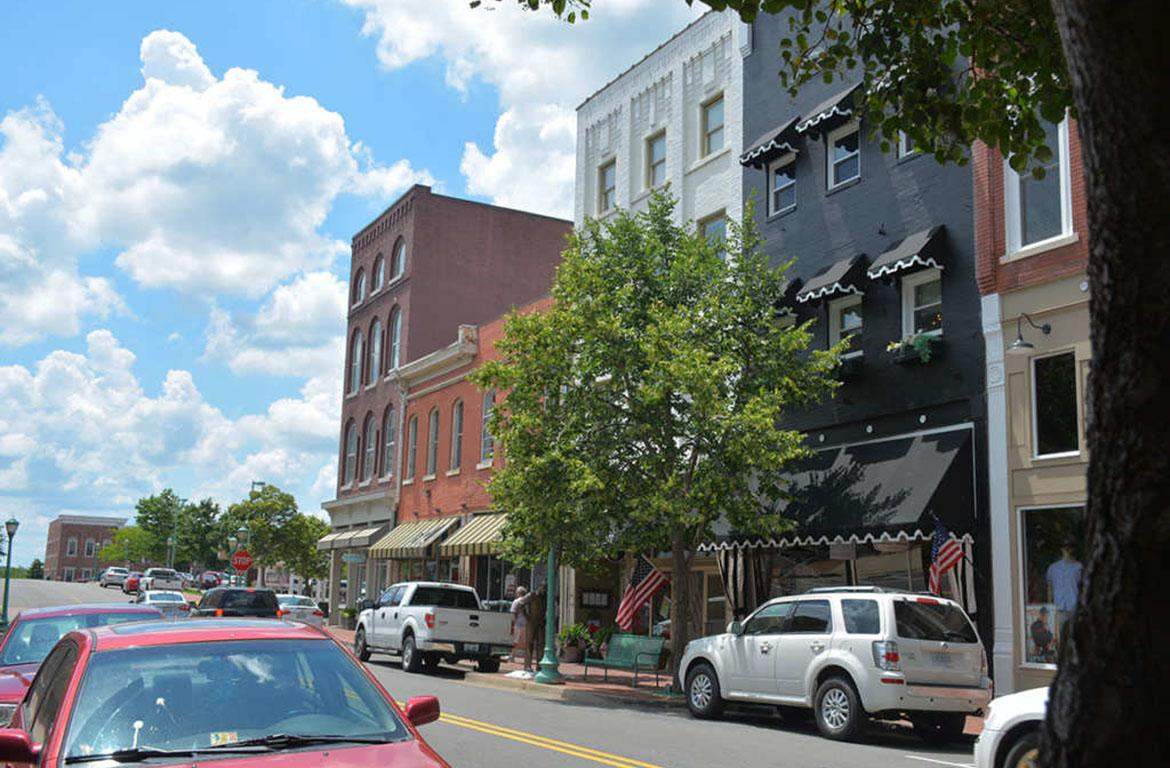tree: (461, 181, 862, 682)
